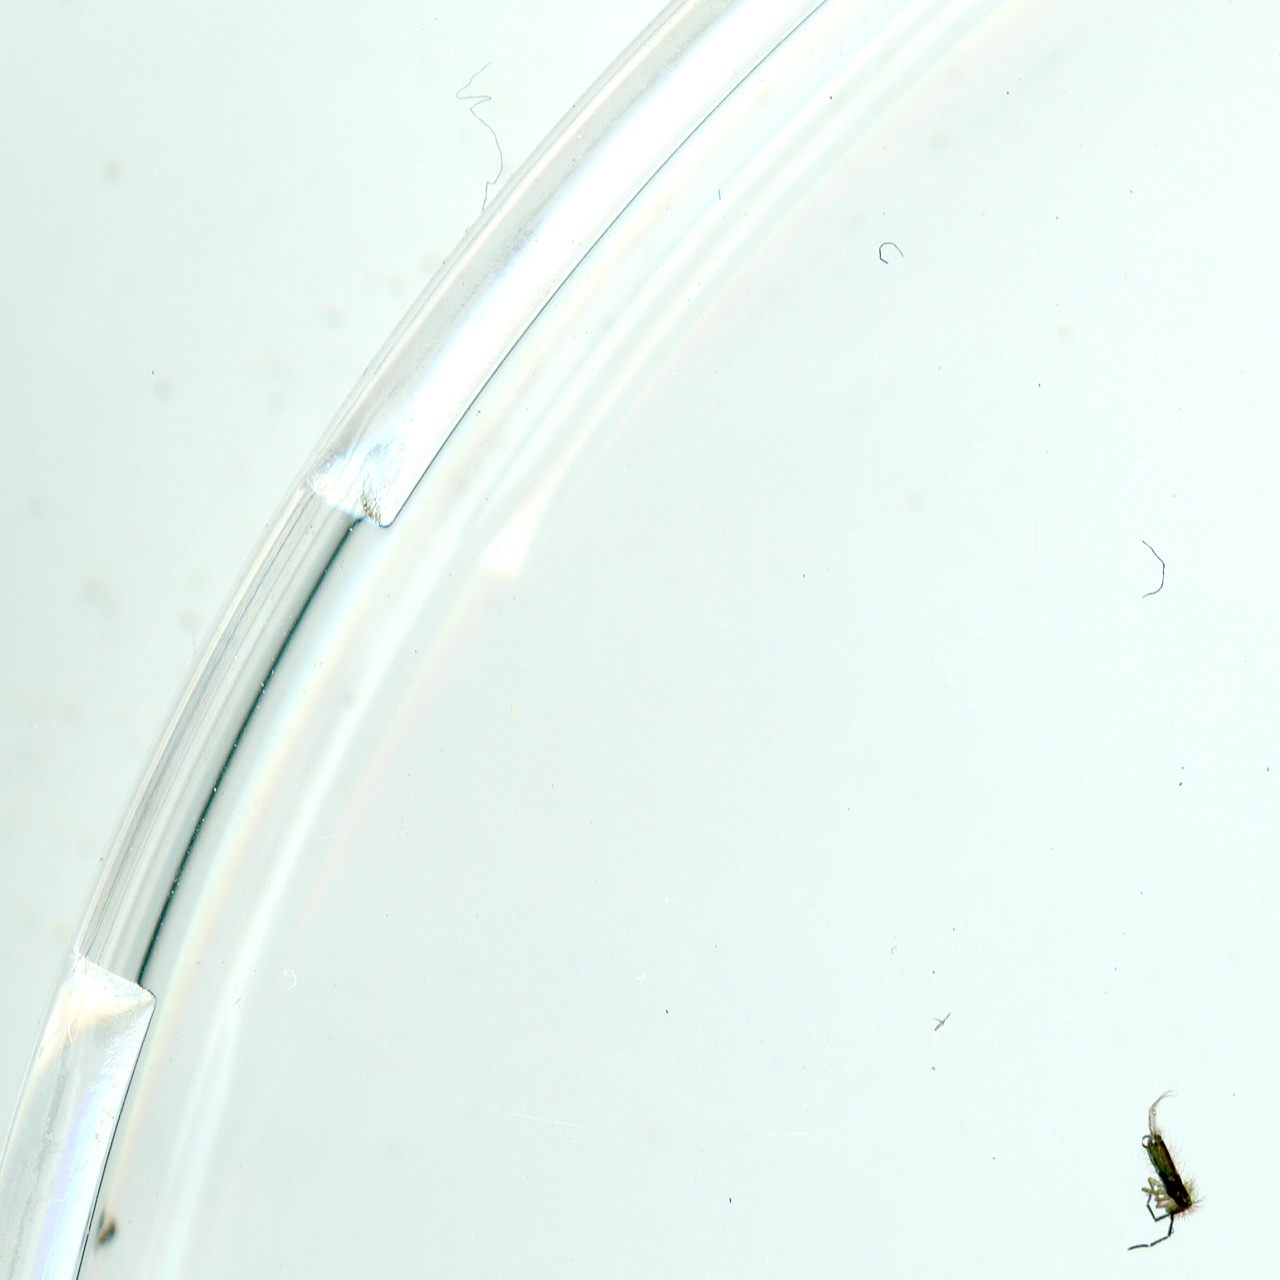arthropod: (1068, 1081, 1239, 1267)
